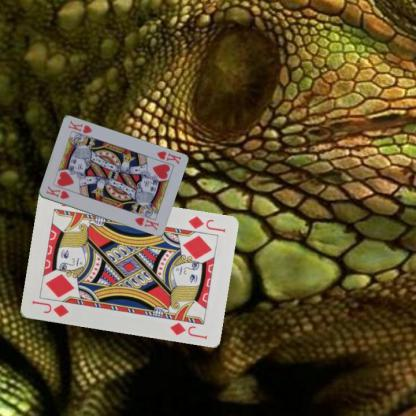Jd: (29, 297, 70, 319), (185, 214, 226, 234)
Kh: (43, 183, 71, 201), (154, 148, 182, 166)
